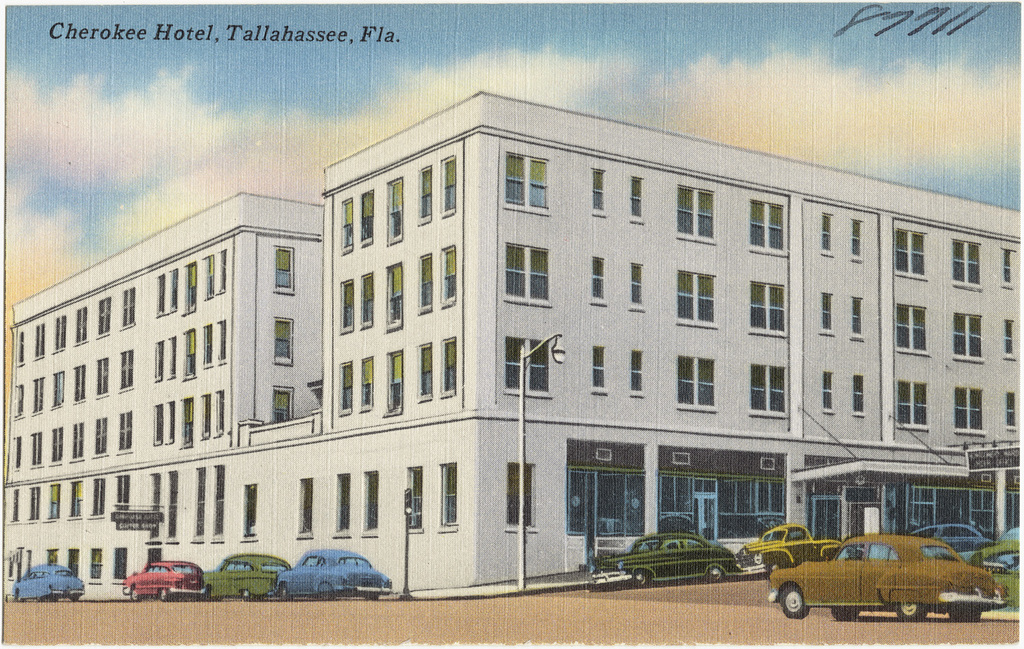Car: (585, 518, 1022, 622), (276, 547, 394, 599), (201, 555, 288, 602), (120, 558, 200, 602), (9, 564, 88, 608)
